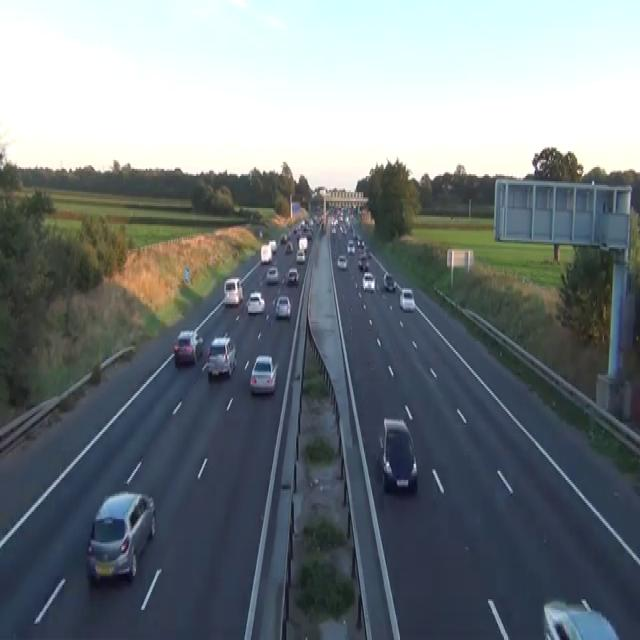Car: (86, 491, 156, 585), (542, 598, 620, 638), (378, 418, 417, 492), (206, 336, 236, 377), (249, 354, 278, 394), (173, 329, 203, 364), (223, 277, 243, 306), (246, 290, 265, 314), (399, 288, 415, 311), (275, 295, 291, 318), (362, 272, 375, 292), (286, 267, 299, 286), (383, 272, 395, 292), (266, 266, 278, 282), (358, 254, 369, 270), (336, 254, 347, 268), (346, 238, 355, 254), (296, 249, 305, 263), (268, 240, 277, 252), (285, 242, 293, 254), (305, 228, 313, 240), (363, 245, 370, 256), (280, 233, 287, 243), (330, 224, 336, 235), (293, 226, 299, 234), (357, 237, 362, 246), (359, 240, 365, 247), (259, 228, 263, 238)
Truck: (260, 244, 272, 263)
